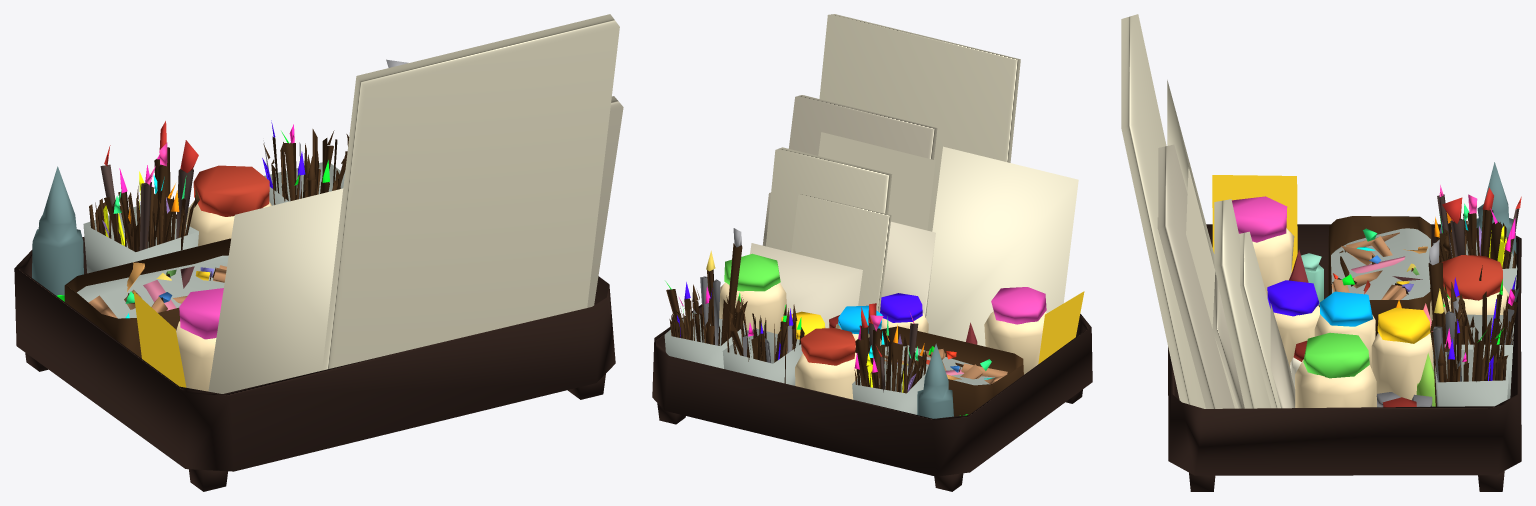
The picture shows the model from 3 angles, left to right: view 1: azimuth 30°, elevation 25°; view 2: azimuth 150°, elevation 25°; view 3: azimuth 270°, elevation 25°; orthographic projection. The views are drawn at different scales.
Parts seen in each view (by area): view 1: ArtSupplies; view 2: ArtSupplies; view 3: ArtSupplies.
Part boxes in pixels (bbox=[...]): ArtSupplies: bbox=[14, 14, 623, 491]; ArtSupplies: bbox=[652, 14, 1092, 491]; ArtSupplies: bbox=[1121, 14, 1521, 491].
Size of what is drawn, in the model's own units: 0.6327 by 0.5682 by 0.5741.
1 material, 1 textured.
